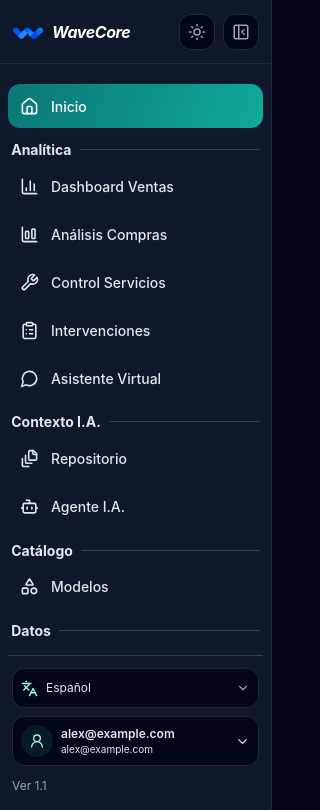
Test: AppShell › shows an error and keeps the account menu open when sign out fails
Click the button with aria-label "Opciones de cuenta": (136, 741) [12,716,259,766]
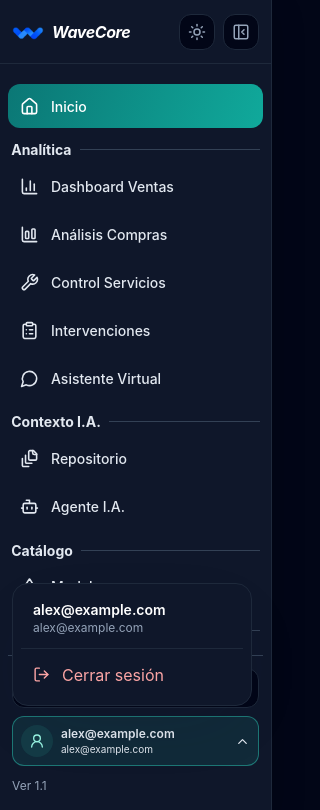
Click the button "Cerrar sesión": (132, 675) [21,653,243,697]
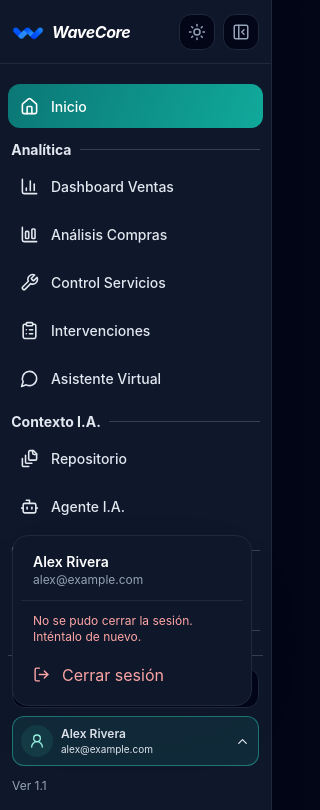
Check: the button with aria-label "Opciones de cuenta" is expanded, box [12,716,259,766]
Check: the message reads "No se pudo cerrar la sesión. Inténtalo de nuevo.", box [33,613,193,644]
